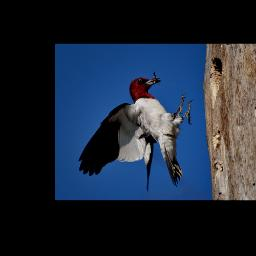Woodpecker: (78, 74, 192, 192)
